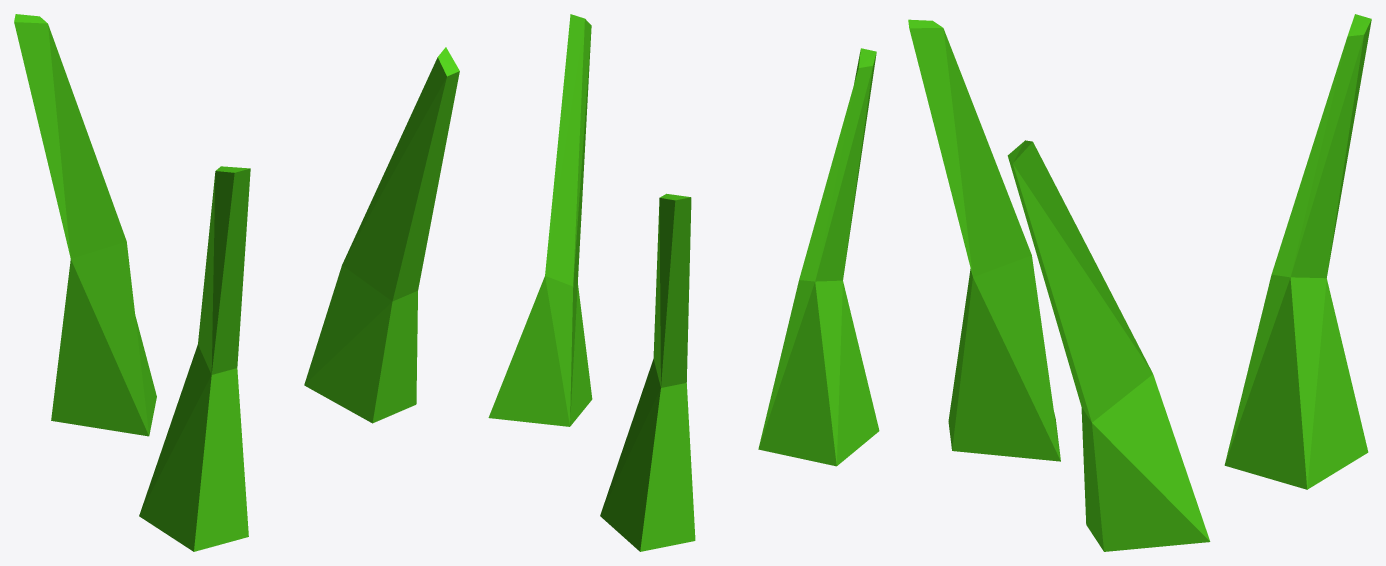
The model's file is Grass2.fbx.
The picture shows the model from 3 angles, left to right: view 1: azimuth 30°, elevation 25°; view 2: azimuth 150°, elevation 25°; view 3: azimuth 270°, elevation 25°; orthographic projection. The views are drawn at different scales.
Parts seen in each view (by area): view 1: Plane.015, Plane.012, Plane.016; view 2: Plane.016, Plane.015, Plane.012; view 3: Plane.015, Plane.012, Plane.016.
Boxes of the visible parts, x1=… form: Plane.015: x1=14, y1=14, x2=156, y2=436; Plane.012: x1=304, y1=47, x2=459, y2=423; Plane.016: x1=139, y1=166, x2=250, y2=551; Plane.016: x1=758, y1=48, x2=879, y2=466; Plane.015: x1=600, y1=193, x2=695, y2=551; Plane.012: x1=488, y1=14, x2=592, y2=426; Plane.015: x1=1224, y1=14, x2=1371, y2=489; Plane.012: x1=1007, y1=140, x2=1210, y2=551; Plane.016: x1=908, y1=19, x2=1060, y2=461.
Bounding box in the file's own units: 54.01 × 69.46 × 67.62.
